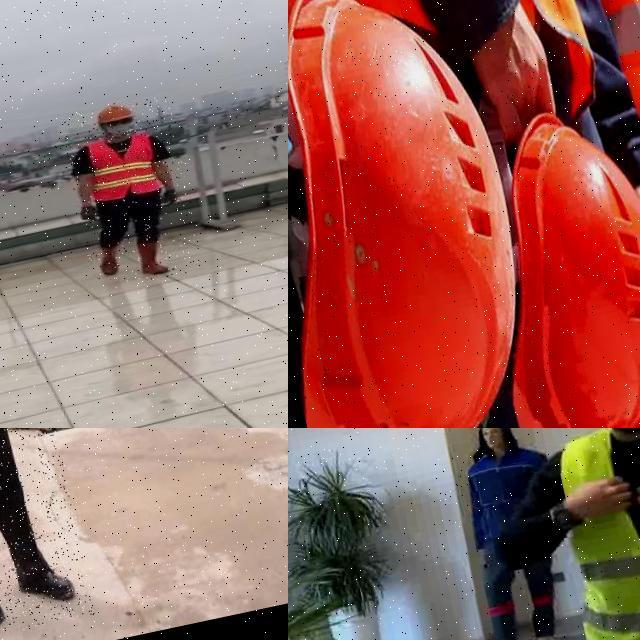boots: (11, 554, 82, 616), (134, 235, 174, 278), (92, 242, 121, 276)
helmet: (288, 0, 568, 428), (452, 92, 640, 428), (90, 98, 136, 125)
vest: (538, 428, 640, 640), (571, 0, 640, 269), (82, 129, 165, 203)
